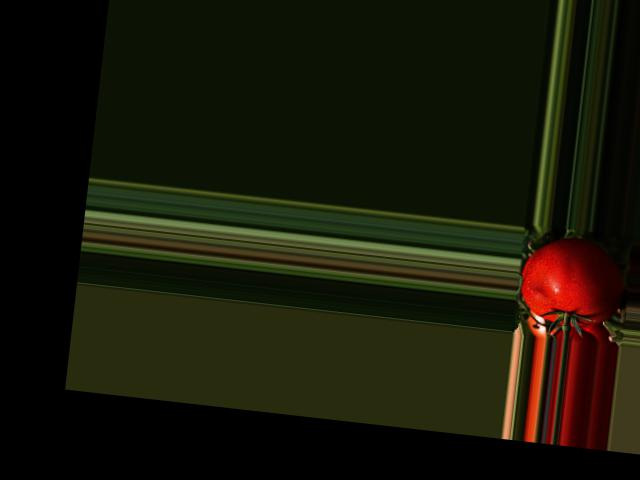tomato: (516, 233, 627, 331)
